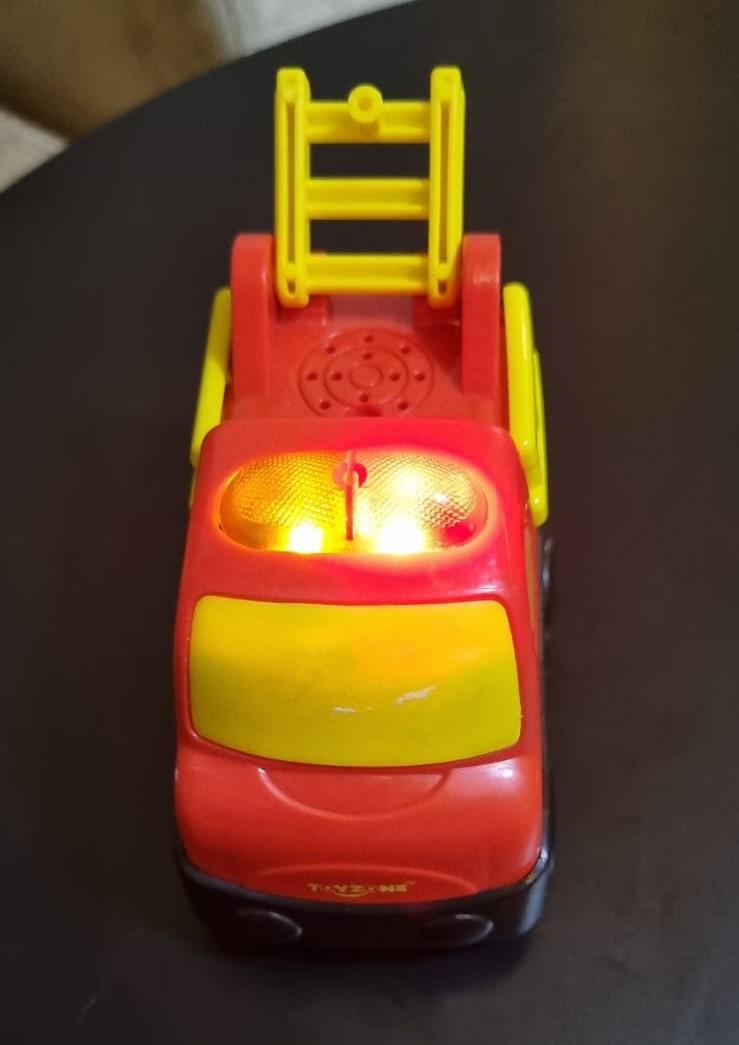firetruck_on: (170, 66, 544, 961)
